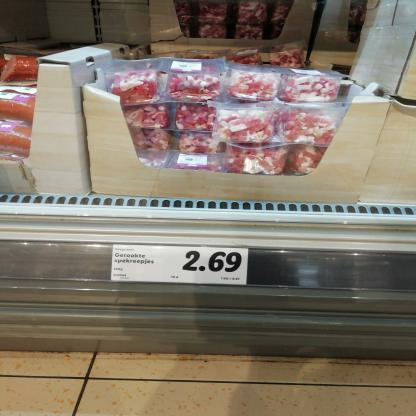prtg: (112, 245, 249, 286)
